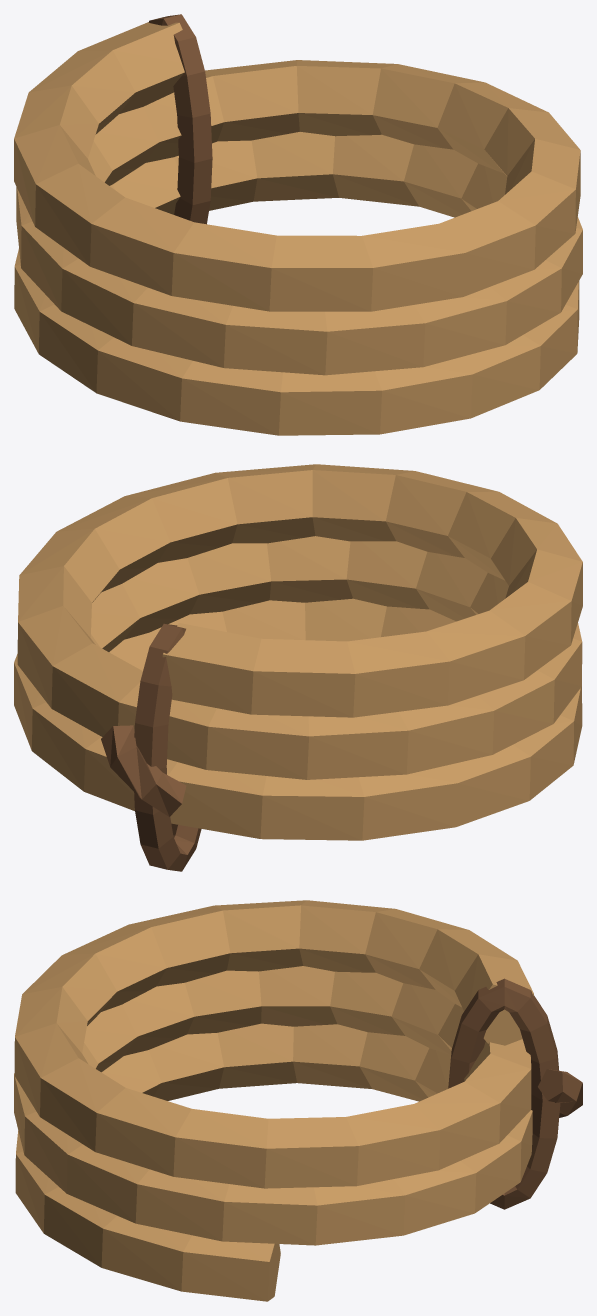
File: rope.fbx
3 renders of one model, top to bottom at view 1: azimuth 30°, elevation 25°; view 2: azimuth 150°, elevation 25°; view 3: azimuth 270°, elevation 25°, orthographic. The views are drawn at different scales.
Parts seen in each view (by area): view 1: 00_continuous_coil, 01_snug_binding; view 2: 00_continuous_coil, 01_snug_binding, 02_binding_crossing; view 3: 00_continuous_coil, 01_snug_binding, 02_binding_crossing.
Boxes of the visible parts, x1,y1,x2,y2 form: 00_continuous_coil: (14, 22, 582, 435); 01_snug_binding: (148, 14, 212, 224); 00_continuous_coil: (14, 464, 582, 840); 01_snug_binding: (134, 623, 201, 871); 02_binding_crossing: (101, 725, 186, 816); 00_continuous_coil: (14, 900, 533, 1301); 01_snug_binding: (448, 978, 560, 1209); 02_binding_crossing: (538, 1069, 582, 1117).
Size of the model in its own units: 0.5425 by 0.2564 by 0.5928.
